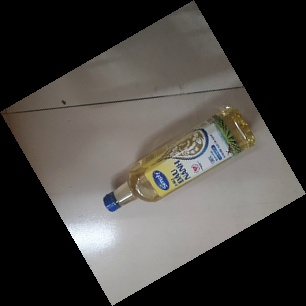Simply: (102, 106, 255, 210)
